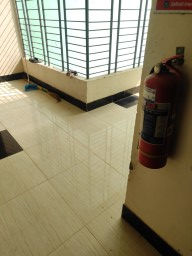fire_extinguisher: (0, 0, 11, 51)
